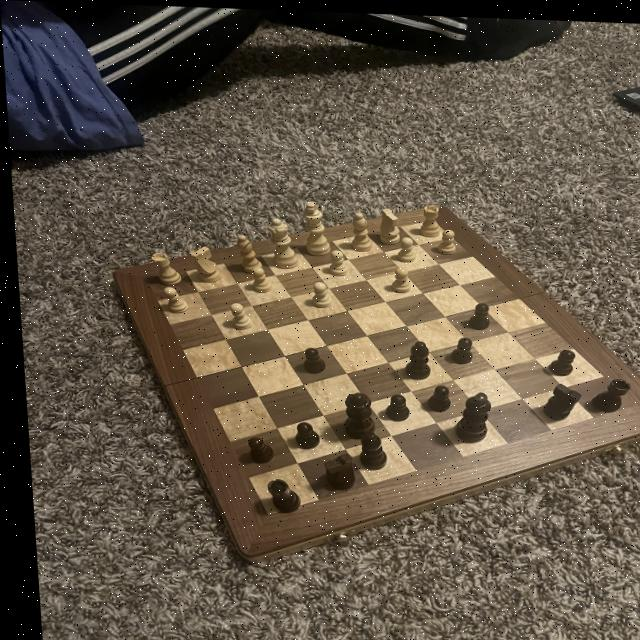bishop: (351, 427, 383, 473), (395, 336, 427, 379)
black-bishop: (448, 387, 490, 441)
black-king: (533, 378, 579, 418), (311, 448, 350, 492)
black-knight: (236, 433, 272, 466), (539, 342, 575, 373), (459, 294, 490, 329), (375, 389, 409, 419), (442, 333, 474, 363), (285, 420, 317, 449), (294, 344, 323, 376), (418, 381, 446, 413)
black-pawn: (331, 389, 373, 439)
black-queen: (585, 372, 629, 411), (256, 475, 295, 513)
black-rook: (341, 207, 375, 252), (228, 233, 261, 275)
white-bishop: (294, 195, 331, 256)
white-king: (181, 241, 221, 286), (370, 202, 402, 244)
white-knight: (156, 284, 189, 315), (241, 263, 271, 295), (221, 300, 251, 329), (302, 278, 331, 307), (322, 246, 346, 277), (389, 233, 415, 261), (385, 263, 409, 293), (433, 224, 455, 254)
white-pawn: (259, 213, 298, 270)
white-queen: (143, 251, 181, 288), (413, 198, 439, 235)
